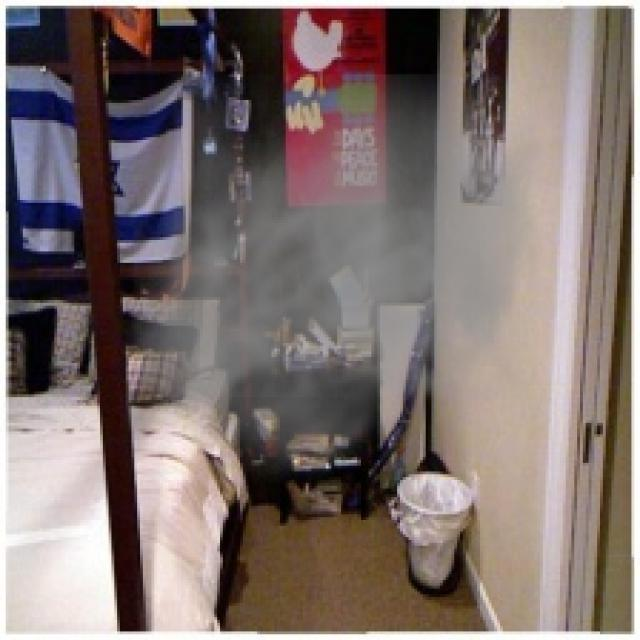smoke: (126, 74, 543, 492)
